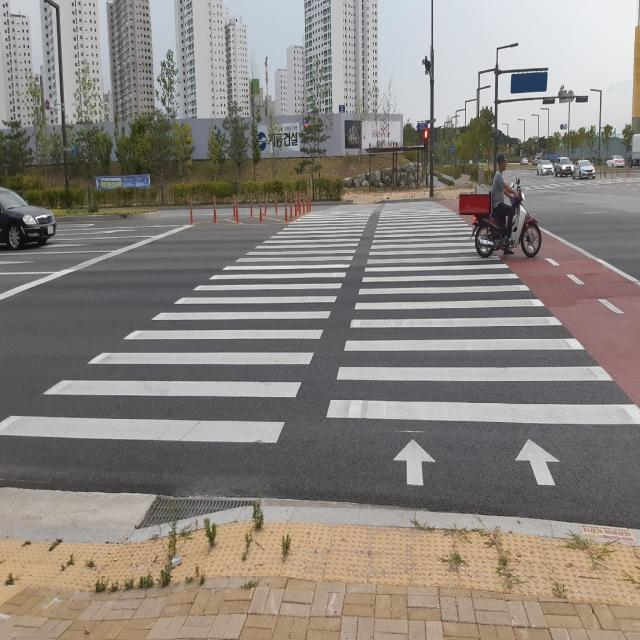빨간불: (422, 130, 430, 153)
횡단보도: (0, 199, 640, 488)
